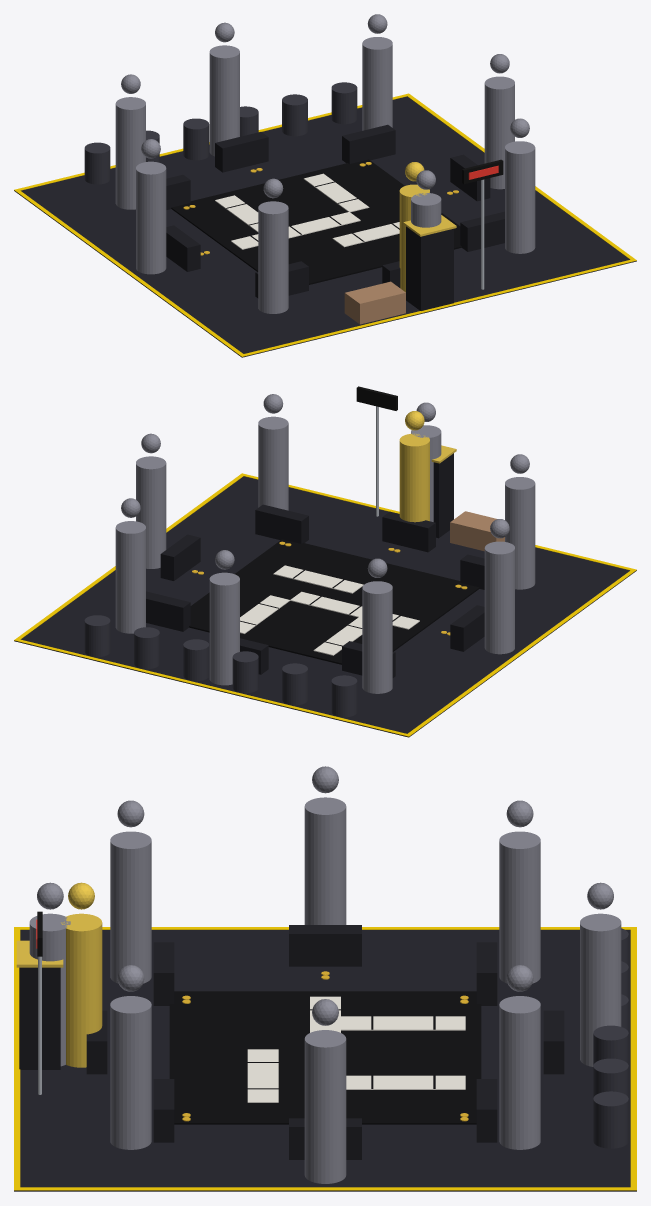
File: G01_THE_LOCK.obj
The picture shows the model from 3 angles, top to bottom: view 1: azimuth 30°, elevation 25°; view 2: azimuth 150°, elevation 25°; view 3: azimuth 270°, elevation 25°; orthographic projection. The views are drawn at different scales.
Parts seen in each view (by area): view 1: floor_area, eva_play_zone, operator_lectern, player_1_body, player_6_body, player_7_body, player_4_body, player_5_body, player_3_body, player_2_body, boneyard_box, player_rack_4 (+21 smaller); view 2: floor_area, eva_play_zone, player_5_body, player_6_body, player_3_body, player_4_body, player_7_body, player_2_body, player_1_body, operator_body, player_rack_1, player_rack_0 (+23 smaller); view 3: floor_area, eva_play_zone, player_2_body, player_1_body, player_3_body, player_5_body, player_7_body, player_6_body, player_4_body, operator_body, operator_lectern, player_rack_6 (+22 smaller).
Part boxes in pixels (bbox=[...]): floor_area: bbox=[14, 96, 636, 357]; eva_play_zone: bbox=[171, 159, 461, 284]; operator_lectern: bbox=[406, 226, 453, 310]; player_1_body: bbox=[505, 141, 535, 253]; player_6_body: bbox=[136, 161, 166, 274]; player_7_body: bbox=[258, 201, 288, 313]; player_4_body: bbox=[209, 45, 239, 156]; player_5_body: bbox=[115, 97, 145, 209]; player_3_body: bbox=[362, 37, 392, 130]; player_2_body: bbox=[484, 76, 514, 189]; boneyard_box: bbox=[344, 281, 405, 324]; player_rack_4: bbox=[215, 132, 268, 172]; floor_area: bbox=[14, 476, 636, 737]; eva_play_zone: bbox=[189, 539, 479, 664]; player_5_body: bbox=[362, 581, 392, 693]; player_6_body: bbox=[484, 541, 514, 654]; player_3_body: bbox=[115, 521, 145, 633]; player_4_body: bbox=[209, 572, 239, 685]; player_7_body: bbox=[505, 477, 535, 589]; player_2_body: bbox=[136, 456, 166, 568]; player_1_body: bbox=[258, 416, 288, 510]; operator_body: bbox=[399, 433, 429, 522]; player_rack_1: bbox=[255, 504, 308, 543]; player_rack_0: bbox=[382, 511, 435, 552]; floor_area: bbox=[14, 930, 636, 1191]; eva_play_zone: bbox=[169, 991, 481, 1124]; player_2_body: bbox=[304, 1030, 346, 1183]; player_1_body: bbox=[110, 996, 151, 1149]; player_3_body: bbox=[499, 996, 540, 1149]; player_5_body: bbox=[499, 831, 540, 983]; player_7_body: bbox=[110, 831, 151, 983]; player_6_body: bbox=[304, 797, 346, 924]; player_4_body: bbox=[580, 913, 621, 1066]; operator_body: bbox=[61, 913, 102, 1067]; operator_lectern: bbox=[19, 967, 60, 1069]; player_rack_6: bbox=[289, 925, 361, 966].
Size of the model in its own units: 6 by 1.87 by 6.
